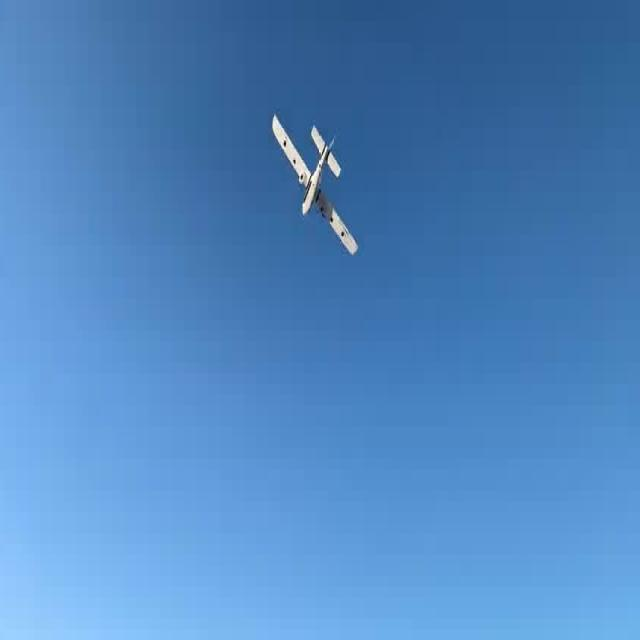iha: (301, 110, 326, 266)
